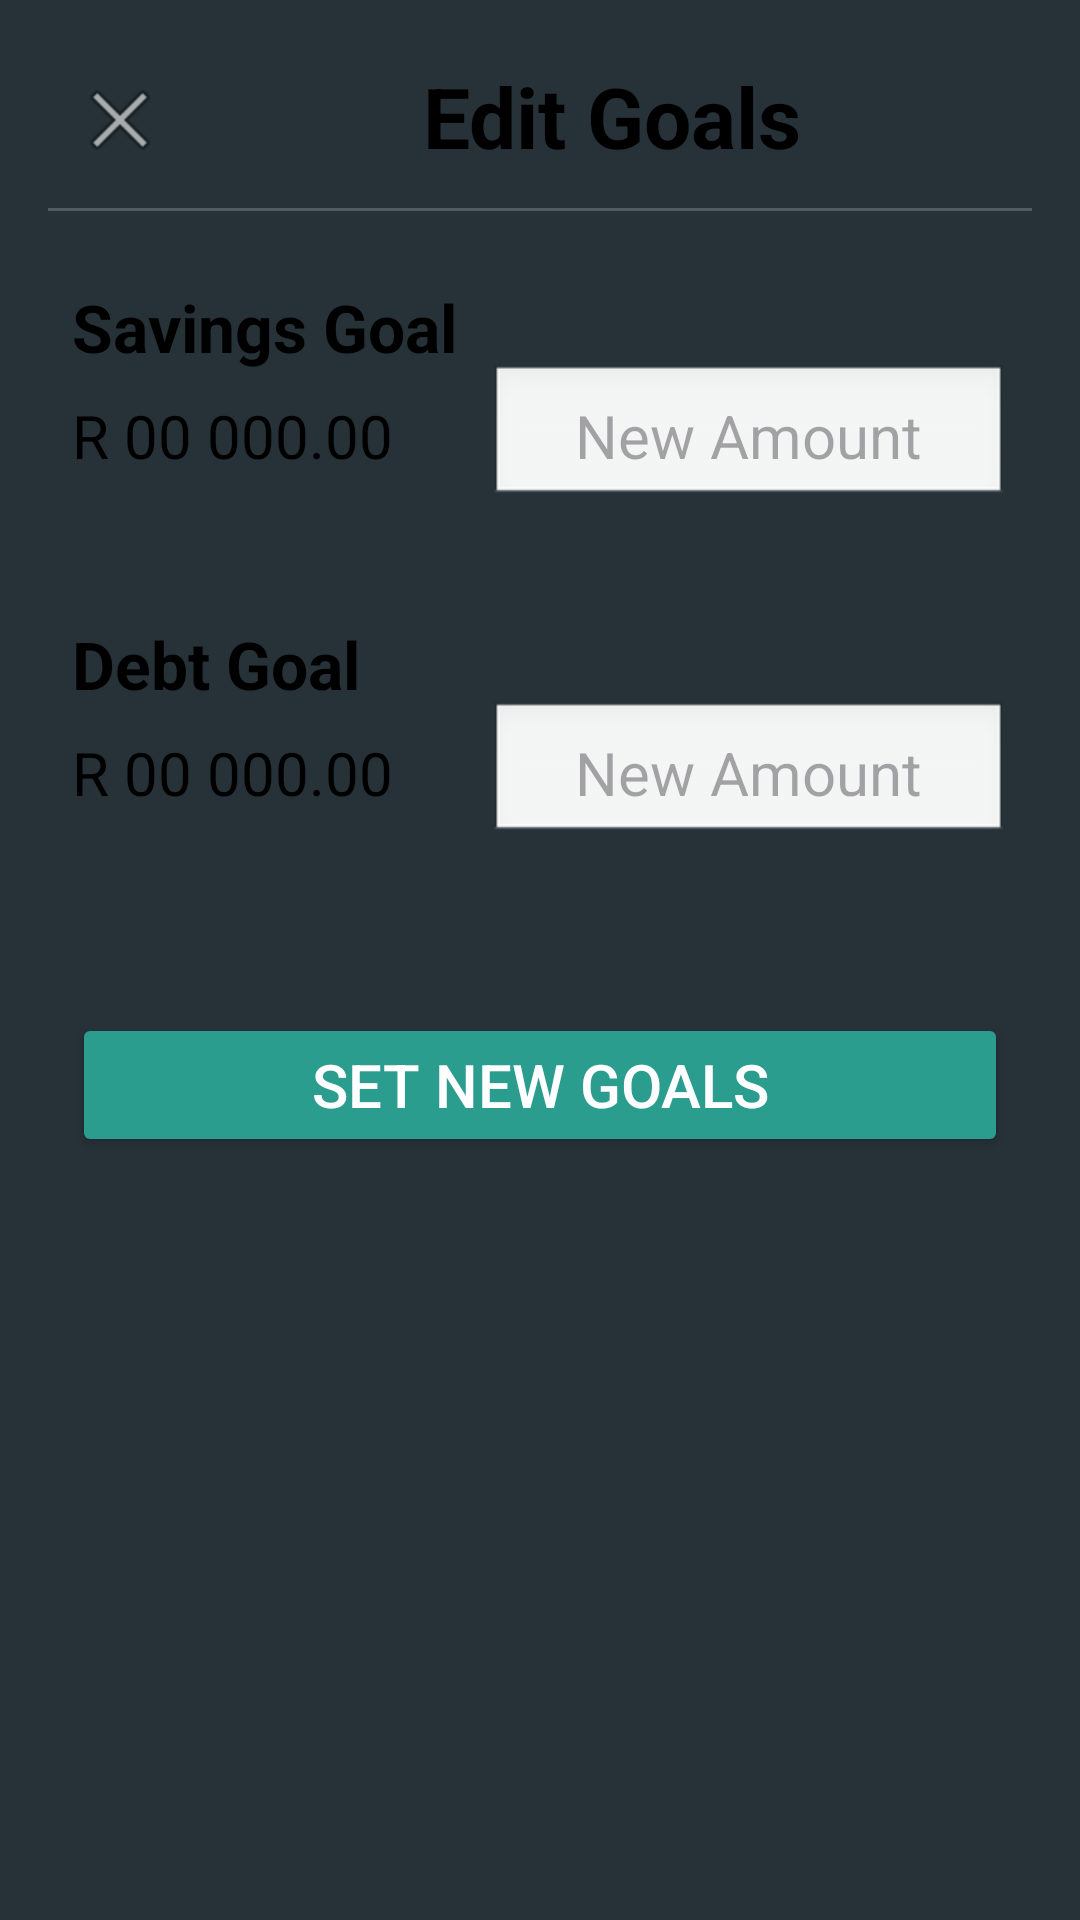

Screen size 1080px x 1920px. Icon name, then its box in pixels as Rect(x1, y1, x2, y2):
Exit: Rect(93, 93, 147, 147)
